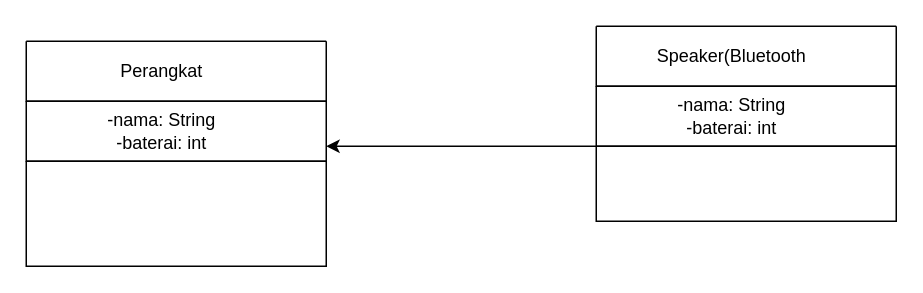
This 923x293 diagram has some shape labels left out. Each missing label, with the box of its shape:
+info(): abstract: (595, 145, 896, 221)
+sambungkan(String) +mainkanMusik(String) +statusBaterai() +info(): abstract: (25, 160, 326, 266)
